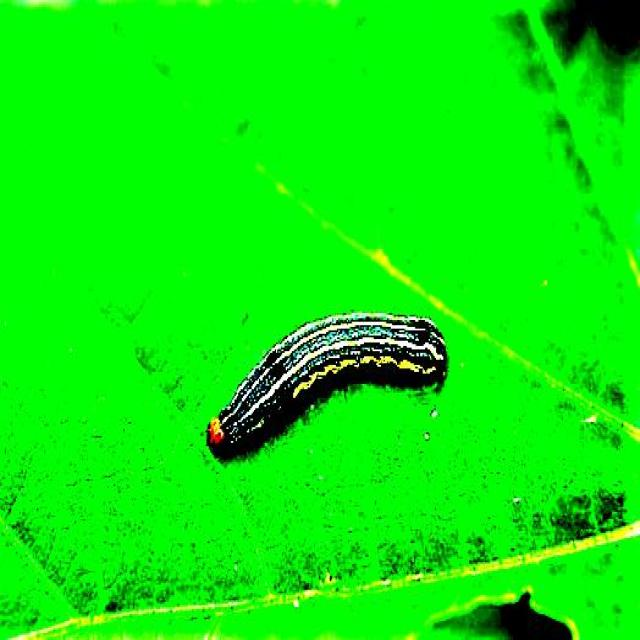Armyworm: (180, 268, 462, 482)
